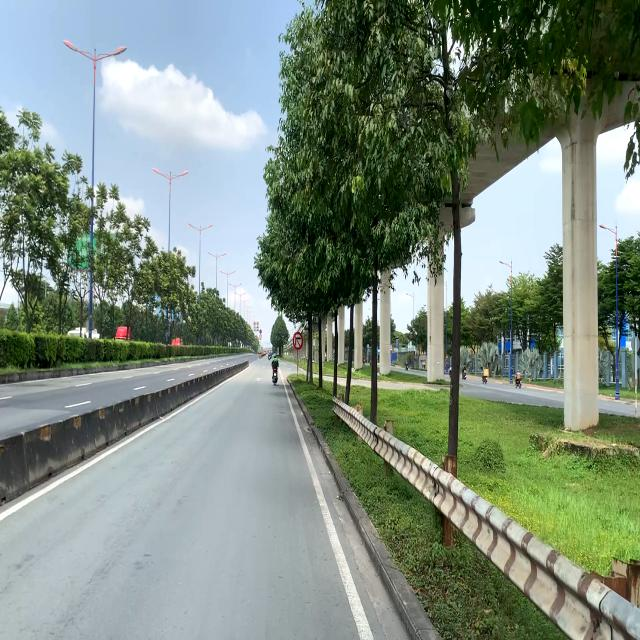P.123b: (292, 332, 304, 351)
